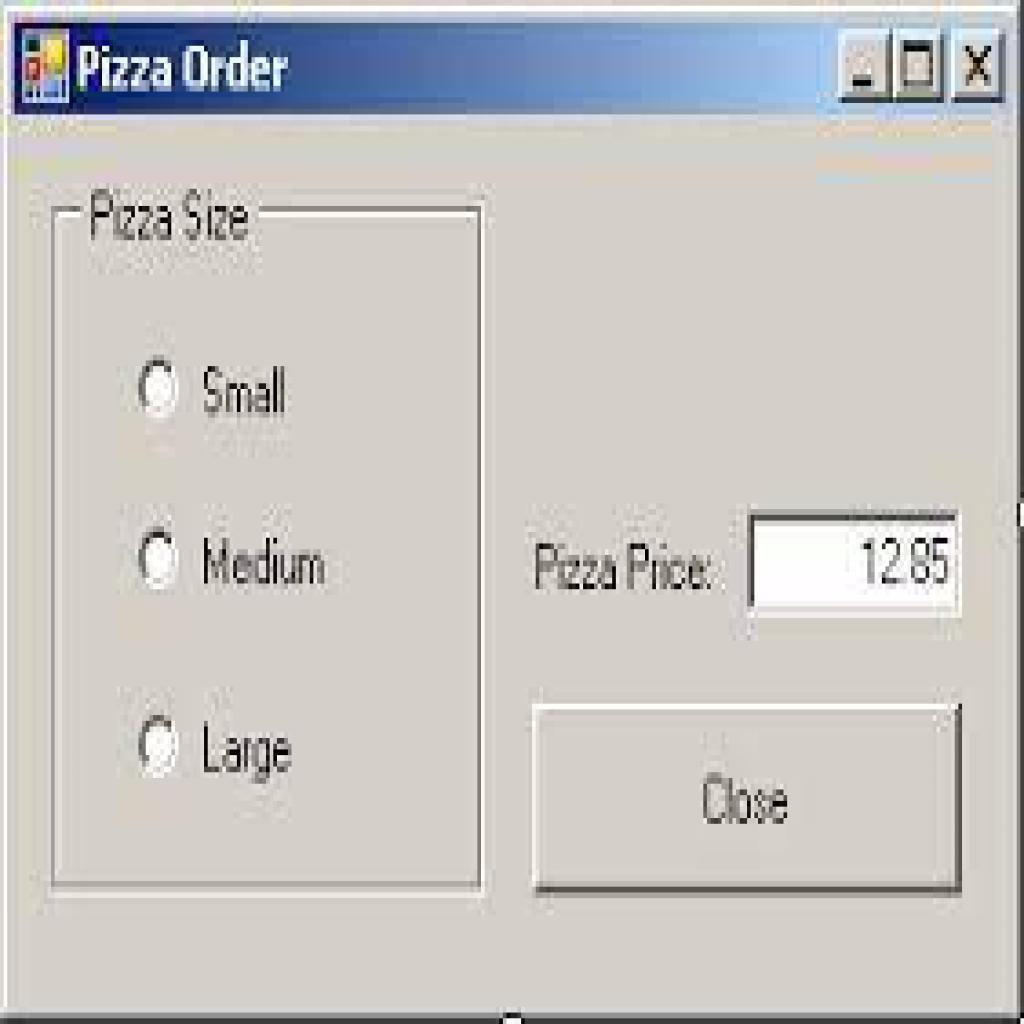button: (535, 708, 962, 891)
input: (748, 521, 956, 618)
radio: (137, 526, 190, 600), (132, 351, 181, 423), (138, 710, 183, 779)
